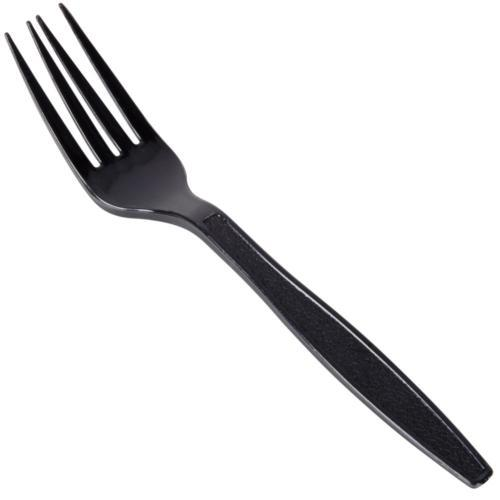Fork: (3, 1, 495, 491)
